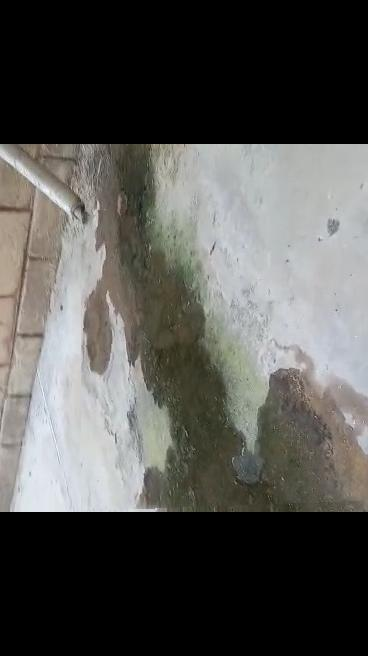water accumulation: (79, 151, 368, 512)
